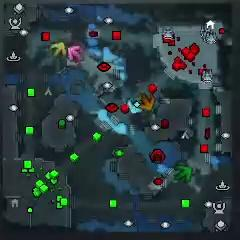x1: (67, 46, 81, 60)
x2: (50, 42, 67, 57)
x3: (127, 99, 142, 114)
x4: (175, 165, 192, 182)
x5: (138, 95, 155, 111)
